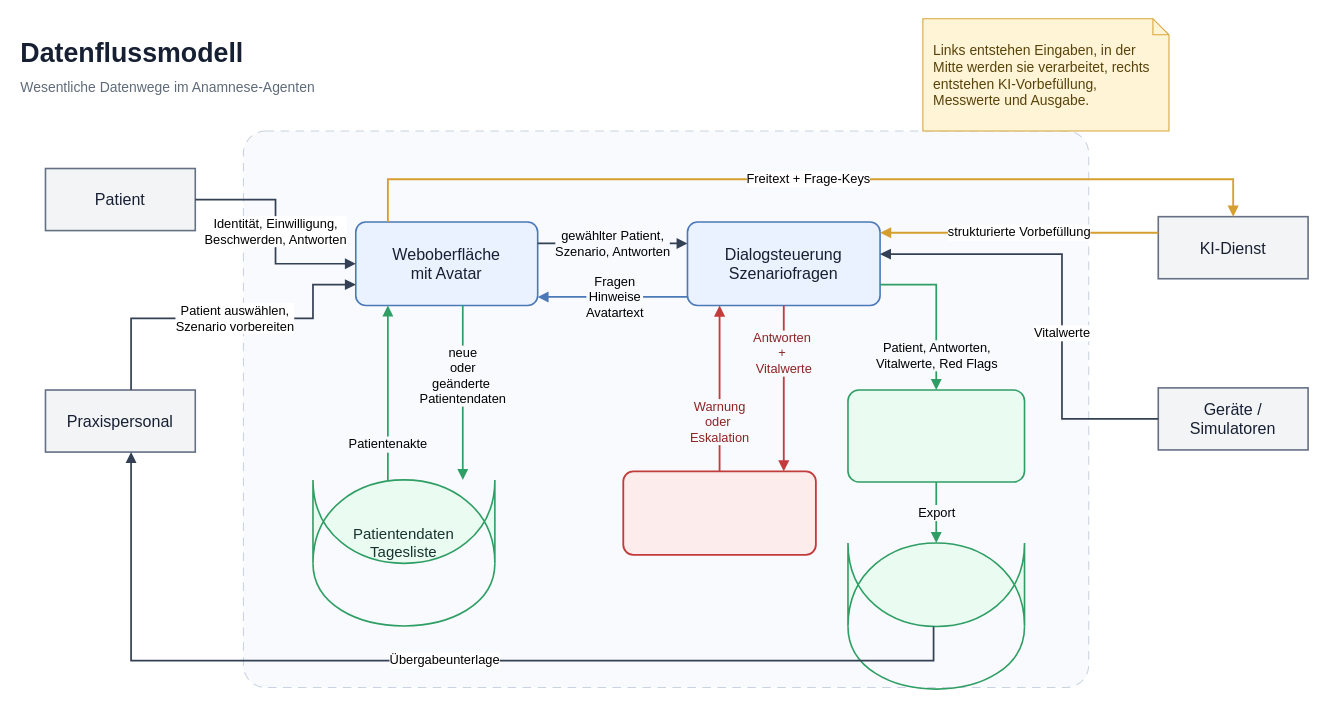
Some shapes in this 1327 by 706 pixel diagram are drawn without their labels. The box of each missing label's shape, as (x1, y1, x2, y2) in pixels:
JSON / PDF Übergabe: (847, 542, 1025, 627)
Red-Flag-Regeln: (622, 470, 816, 555)
Systemgrenze: lokale NiceGUI-Anwendung: (242, 130, 1089, 687)
Zusammenfassung und Export: (847, 389, 1025, 482)
